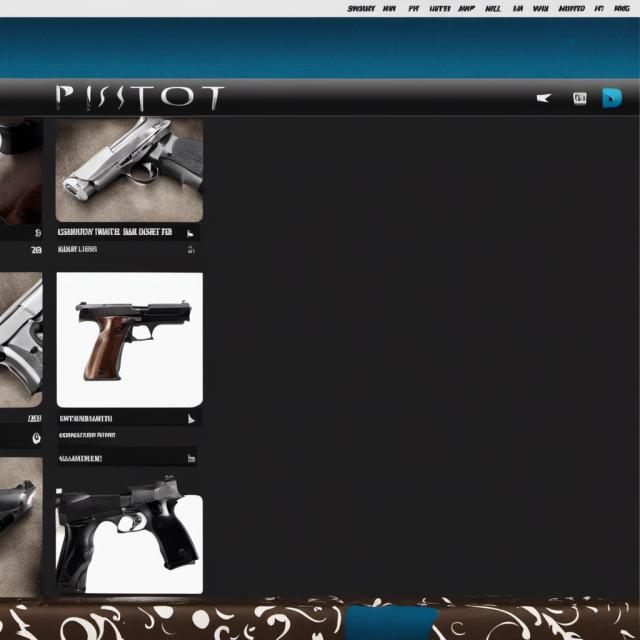gun: (52, 484, 206, 590), (60, 117, 208, 210), (69, 298, 198, 379)
